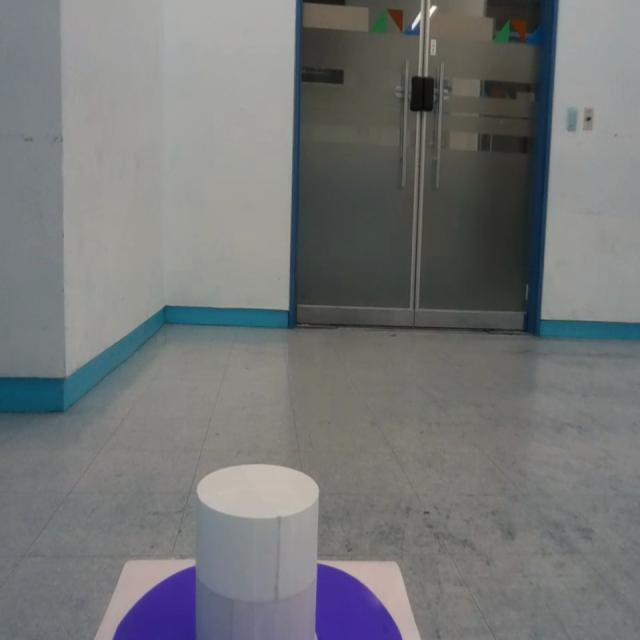cylinder: (193, 464, 321, 638)
